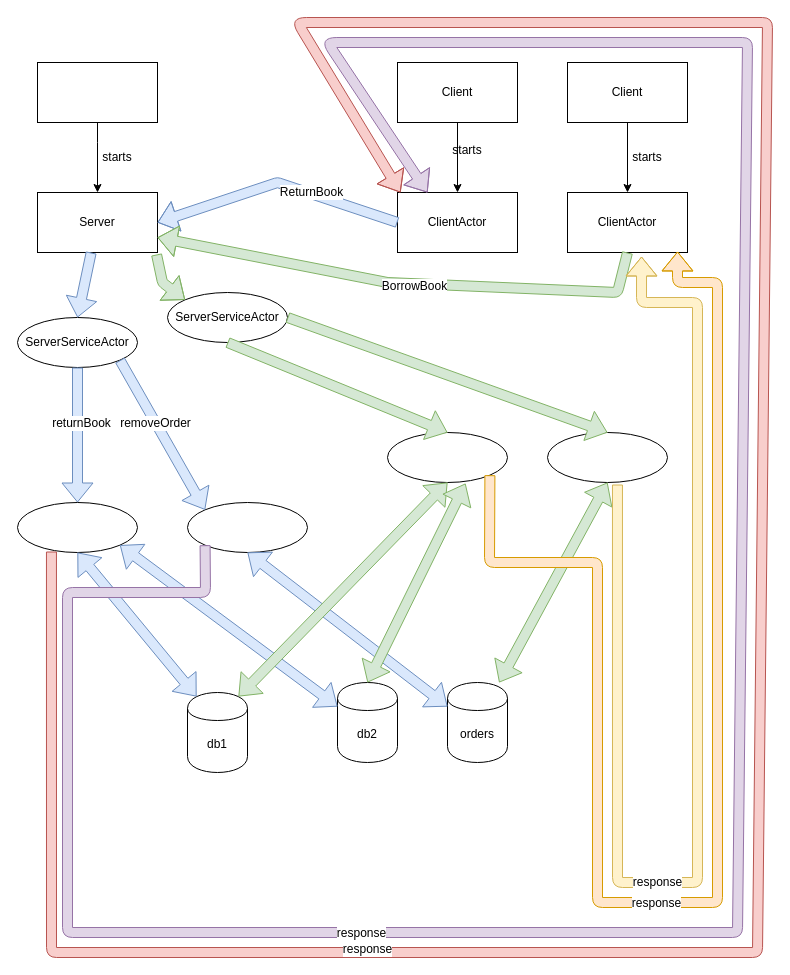
This 790x975 diagram has some shape labels left out. Each missing label, with the box of its shape:
AddOrderActor: (546, 432, 668, 482)
BorrowBookActor: (386, 432, 508, 482)
RemoveOrderActor: (186, 502, 308, 552)
ReturnBookActor: (16, 502, 138, 552)
ServerStarter: (36, 62, 158, 122)
